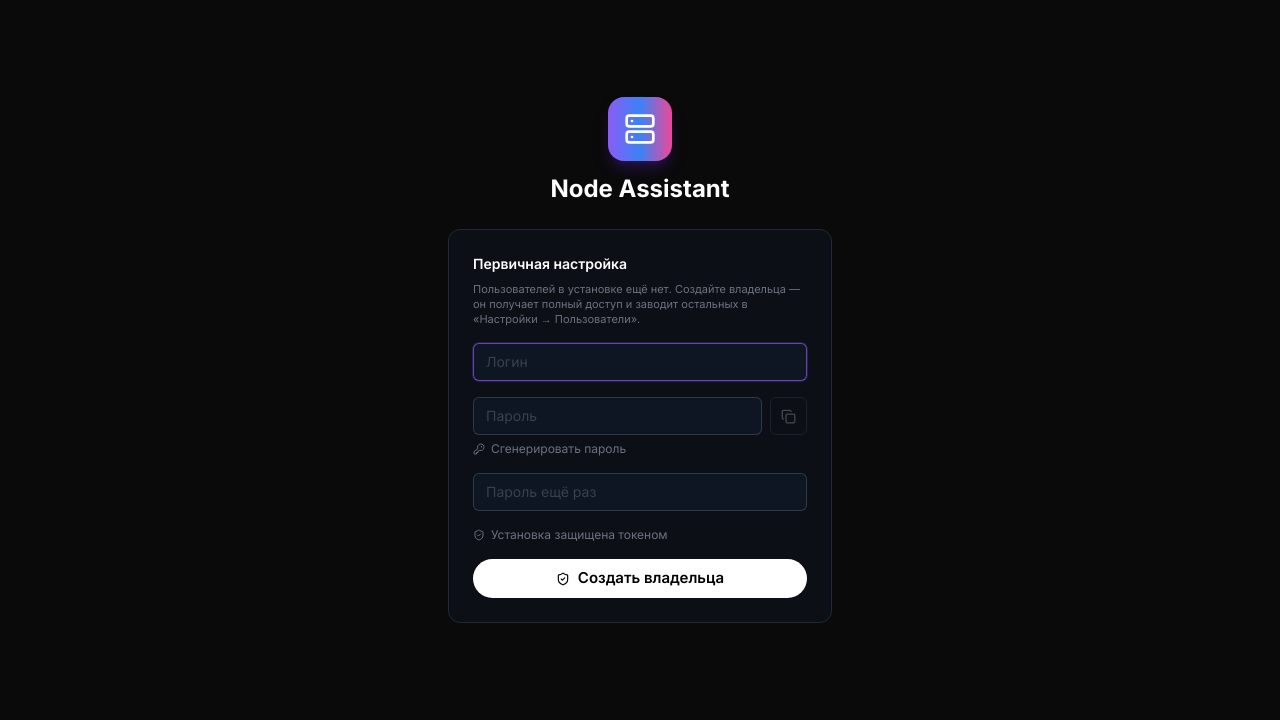
Test: AuthScreen › surfaces a bootstrap refusal from the server
This screenshot has width=1280, height=720.
Expected: the text "Первичная настройка" is shown, [473, 255, 627, 272]
Type "root" into the field with placeholder "Логин". click: (640, 362)
box: [473, 343, 807, 381]
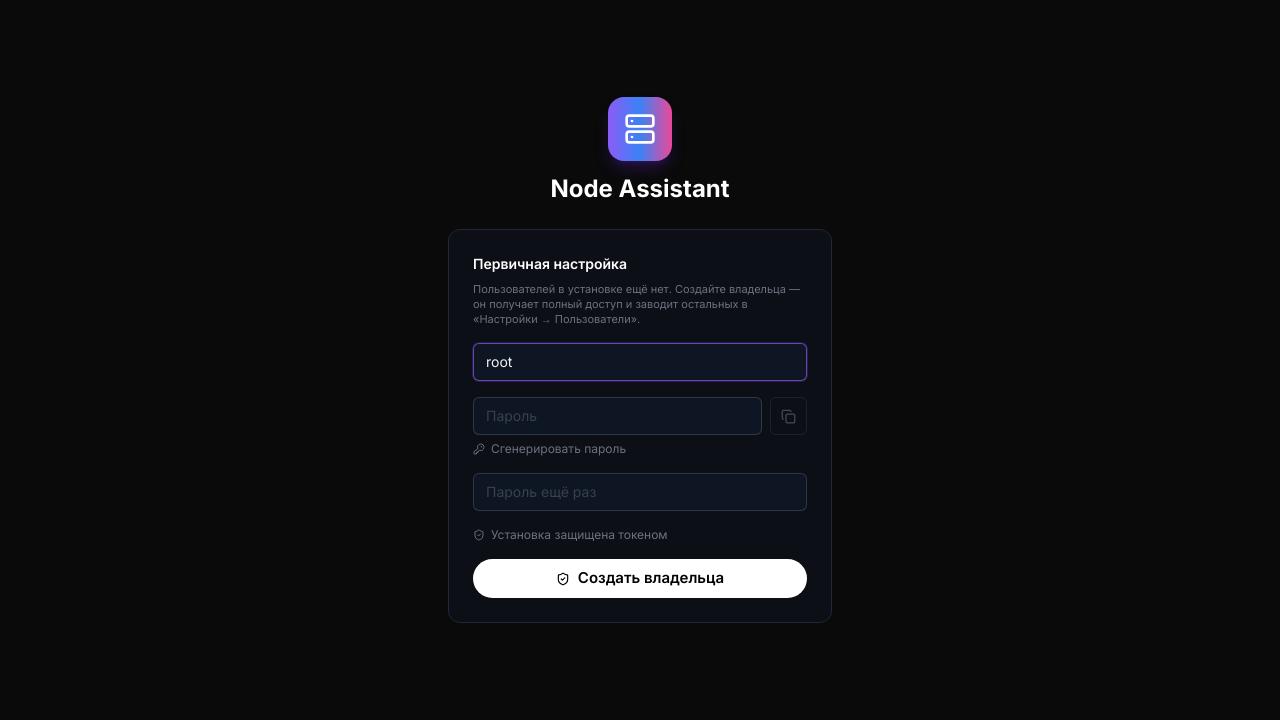
Type "long-enough-pw" into the field with placeholder "Пароль". click: (618, 416)
box: [473, 397, 762, 435]
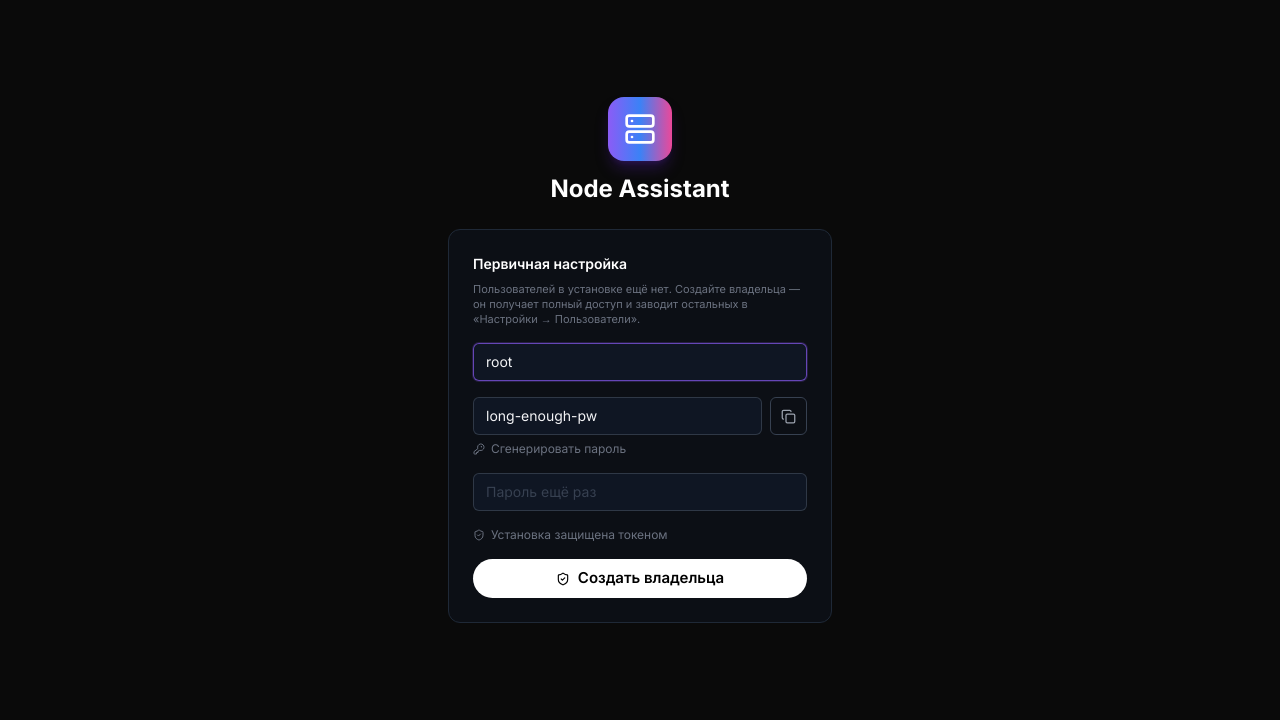
Type "long-enough-pw" into the password field with placeholder "Пароль ещё раз". click: (640, 492)
box: [473, 473, 807, 511]
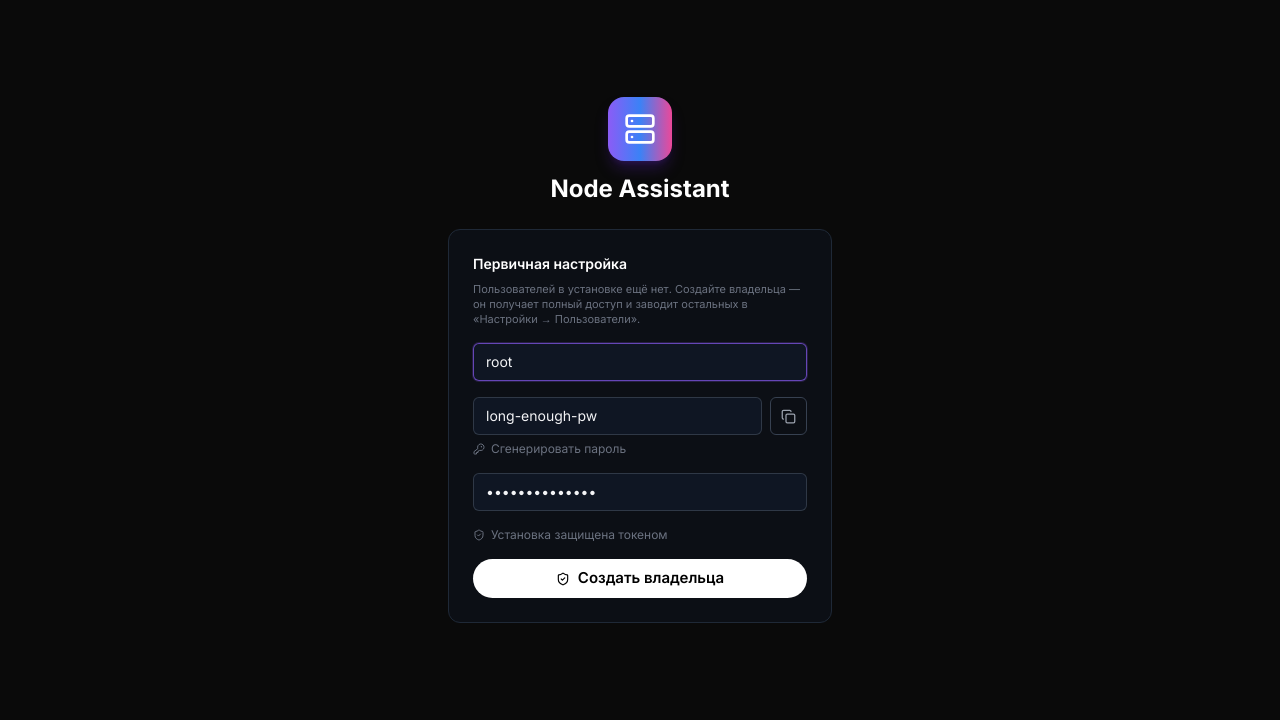
Click the button "Создать владельца". click: (640, 579)
box: [473, 559, 807, 598]
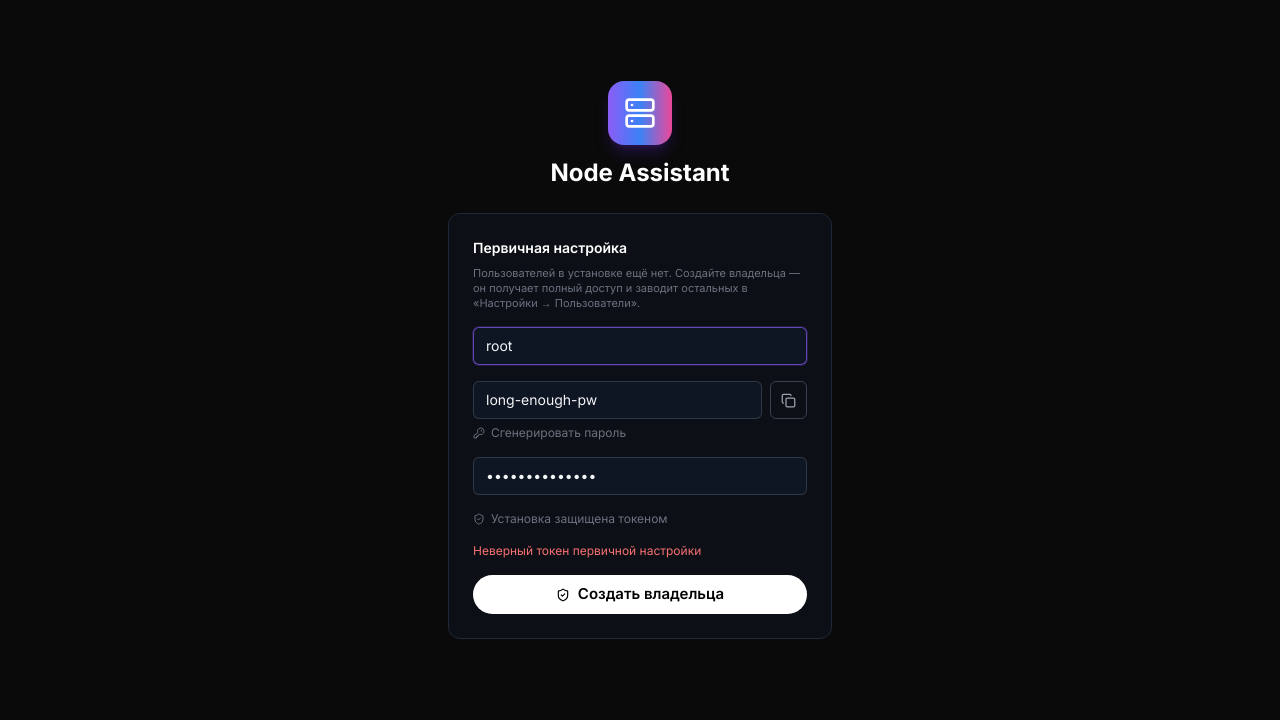
Expected: the text "Неверный токен первичной настройки" is shown, [473, 543, 701, 558]
